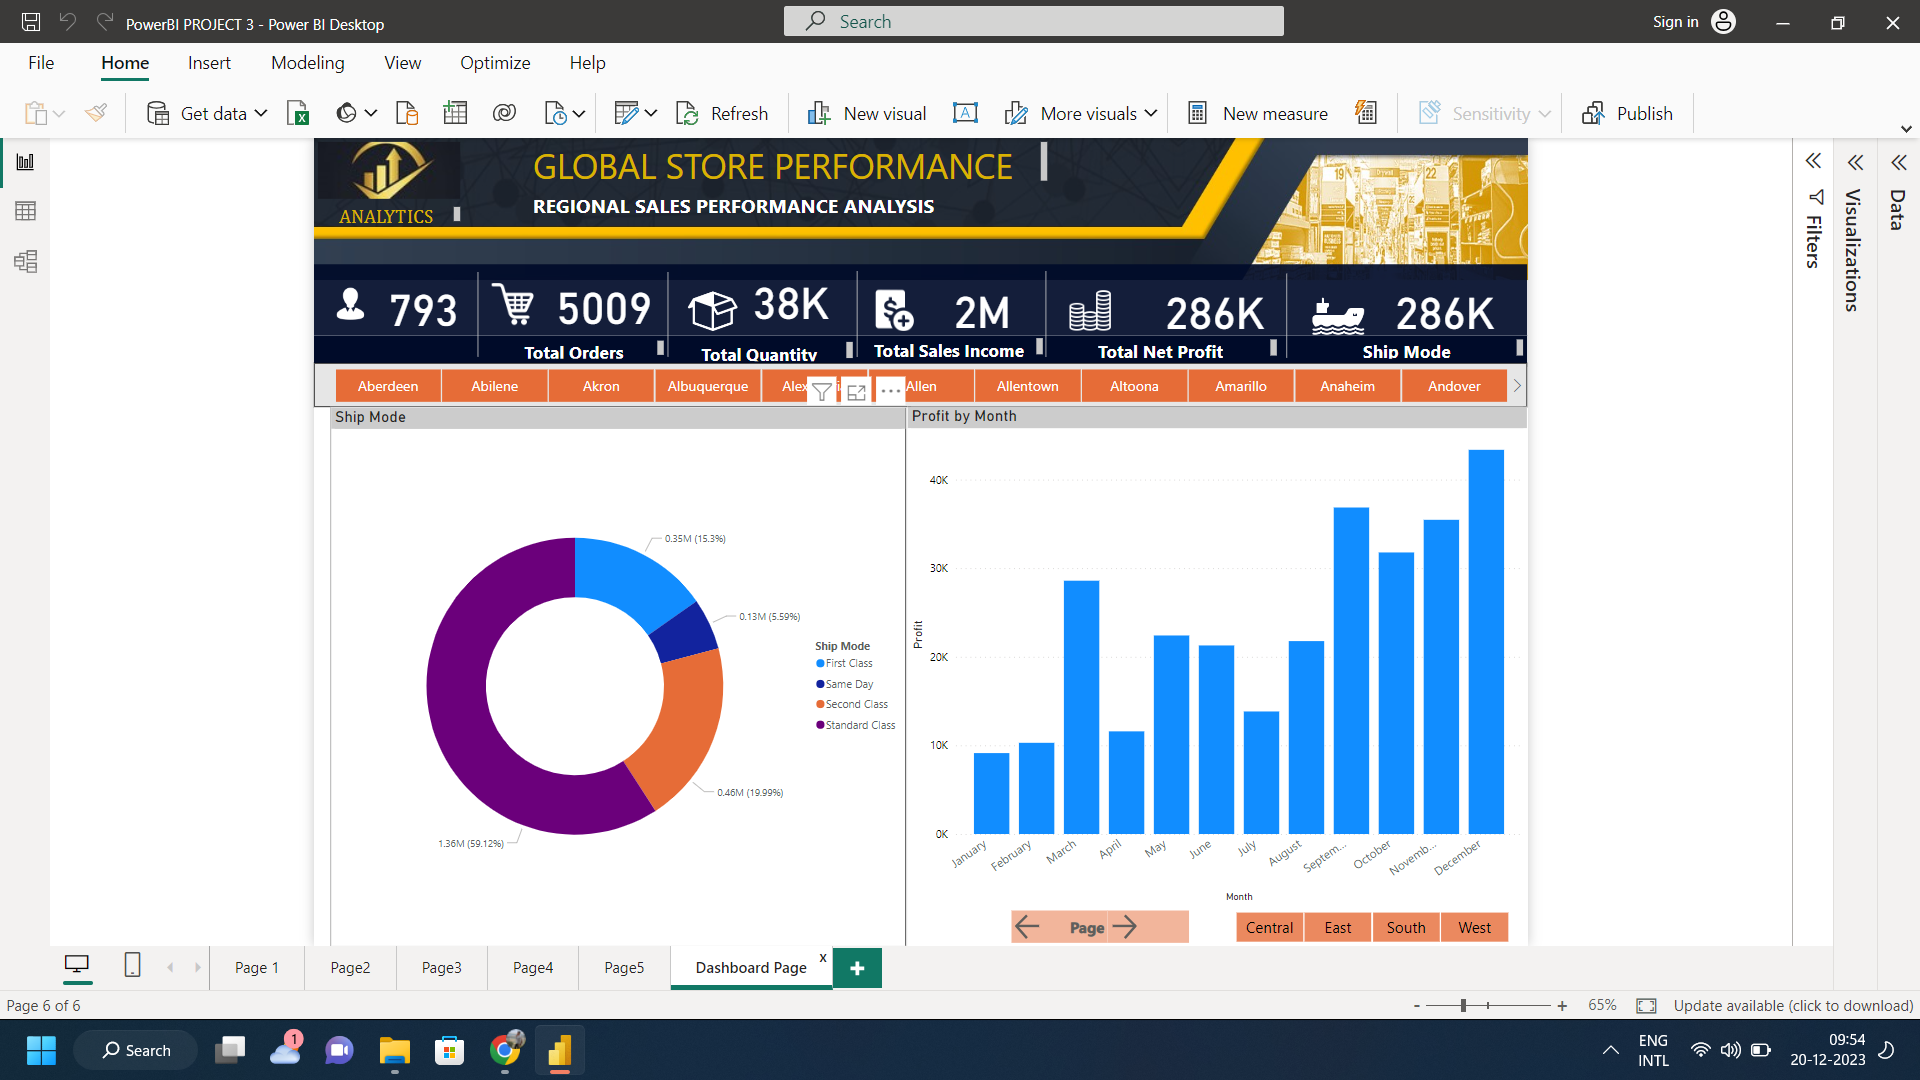

The dashboard page shown, as its layout file describes it:
{"tool":"powerbi","page":{"name":"Page4","canvas":[1280,720],"ordinal":3},"visuals":[{"type":"image","box":[0,0,1280,172.5],"z":0},{"type":"textbox","box":[238.9,0,618.4,73.3],"z":1000},{"type":"image","box":[10,10,186,80],"z":2000},{"type":"textbox","box":[281.2,63.8,549.4,44],"z":3000},{"type":"textbox","box":[0,172.5,1280,111.3],"z":4000},{"type":"image","box":[17.3,193.2,49.2,55.2],"z":5000},{"type":"card","fields":{"Values":["Count(Orders.Customer ID)"]},"box":[86.8,185.8,118.6,62.3],"z":6000},{"type":"textbox","box":[0,248.4,223.4,39.7],"z":7000},{"type":"shape","box":[194.1,172.5,11.2,110.4],"z":8000},{"type":"slicer","fields":{"Values":["Orders.City"]},"box":[0,284.6,1280,81.9],"z":9000},{"type":"donutChart","title":"Ship Mode","fields":{"Y":["Sum(Orders.Sales)"],"Category":["Orders.Ship Mode"]},"box":[0,360,640.3,360],"z":10000},{"type":"columnChart","fields":{"Y":["Sum(Orders.Profit)"],"Category":["Orders.Order Date.Variation.Date Hierarchy.Month"]},"box":[640.7,360.8,639.1,359.2],"z":11000}]}

Visuals, with their boxes on the page's 1280x720 design canvas (x1, y1, x2, y2). These are canvas units, not pixel positions in the 1920x1080 screenshot, which may show the page scaled, cropped or inside an application window:
image: pyautogui.locateOnScreen(0, 0, 1280, 172)
textbox: pyautogui.locateOnScreen(239, 0, 857, 73)
image: pyautogui.locateOnScreen(10, 10, 196, 90)
textbox: pyautogui.locateOnScreen(281, 64, 831, 108)
textbox: pyautogui.locateOnScreen(0, 172, 1280, 284)
image: pyautogui.locateOnScreen(17, 193, 66, 248)
card - Count(Orders.Customer ID): pyautogui.locateOnScreen(87, 186, 205, 248)
textbox: pyautogui.locateOnScreen(0, 248, 223, 288)
shape: pyautogui.locateOnScreen(194, 172, 205, 283)
slicer - Orders.City: pyautogui.locateOnScreen(0, 285, 1280, 366)
"Ship Mode" donutChart: pyautogui.locateOnScreen(0, 360, 640, 720)
columnChart - Sum(Orders.Profit) x Orders.Order Date.Variation.Date Hierarchy.Month: pyautogui.locateOnScreen(641, 361, 1280, 720)
